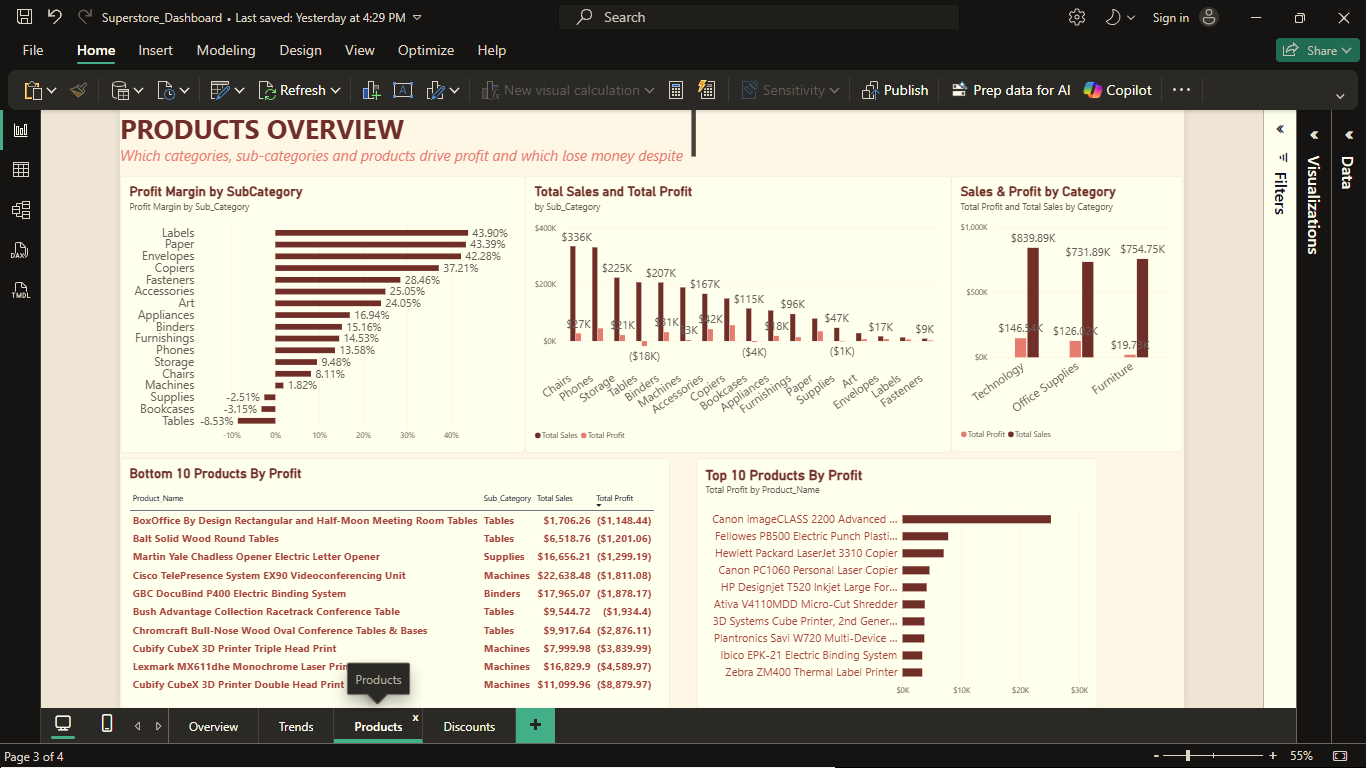

The page's visual inventory and layout, read from the dashboard file:
{"tool":"powerbi","page":{"name":"Products","canvas":[1920,1080],"ordinal":2},"visuals":[{"type":"clusteredColumnChart","title":"Sales & Profit by Category","fields":{"Category":["superstore orders.Category"],"Y":["superstore orders.Total Profit","superstore orders.Total Sales"]},"box":[1500.8,119.2,419,498.5],"z":0},{"type":"clusteredBarChart","title":"Profit Margin by SubCategory","fields":{"Category":["superstore orders.Sub_Category"],"Y":["superstore orders.Profit Margin"]},"box":[0,118.3,731.7,500],"z":1000},{"type":"clusteredColumnChart","fields":{"Category":["superstore orders.Sub_Category"],"Y":["superstore orders.Total Sales","superstore orders.Total Profit"]},"box":[731.7,118.3,770,500],"z":2000},{"type":"textbox","box":[0,0,1040.3,106.6],"z":3000},{"type":"tableEx","title":"Bottom 10 Products By Profit","fields":{"Values":["superstore orders.Product_Name","superstore orders.Sub_Category","superstore orders.Total Sales","superstore orders.Total Profit"]},"box":[0,628.5,993.3,451.5],"z":4000},{"type":"clusteredBarChart","title":"Top 10 Products By Profit","fields":{"Category":["superstore orders.Product_Name"],"Y":["superstore orders.Total Profit"]},"box":[1040.3,628.5,725,451.7],"z":5000}]}

Visuals, with their boxes on the page's 1920x1080 design canvas (x1, y1, x2, y2). These are canvas units, not pixel positions in the 1366x768 screenshot, which may show the page scaled, cropped or inside an application window:
"Sales & Profit by Category" clusteredColumnChart: <region>1501, 119, 1920, 618</region>
"Profit Margin by SubCategory" clusteredBarChart: <region>0, 118, 732, 618</region>
clusteredColumnChart - superstore orders.Sub_Category x superstore orders.Total Sales: <region>732, 118, 1502, 618</region>
textbox: <region>0, 0, 1040, 107</region>
"Bottom 10 Products By Profit" tableEx: <region>0, 628, 993, 1080</region>
"Top 10 Products By Profit" clusteredBarChart: <region>1040, 628, 1765, 1080</region>
